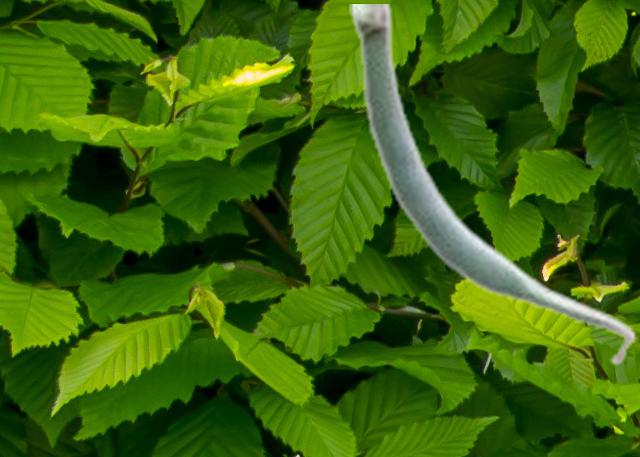french_bean: (349, 4, 636, 367)
